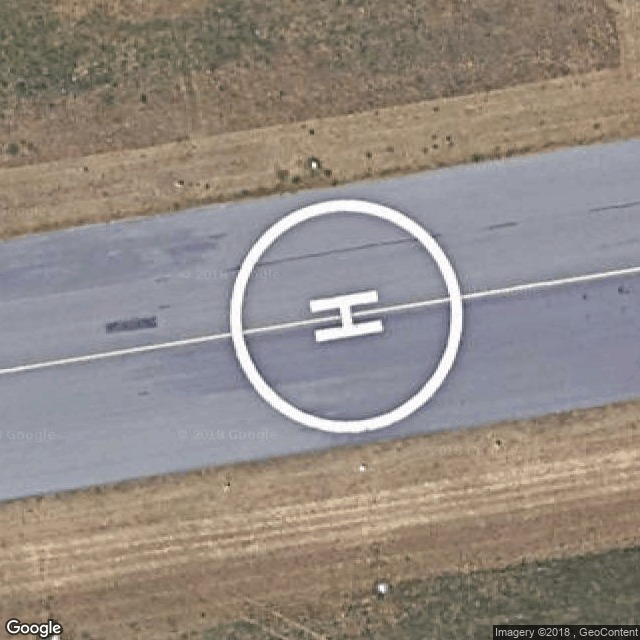heliport: (300, 275, 391, 349)
